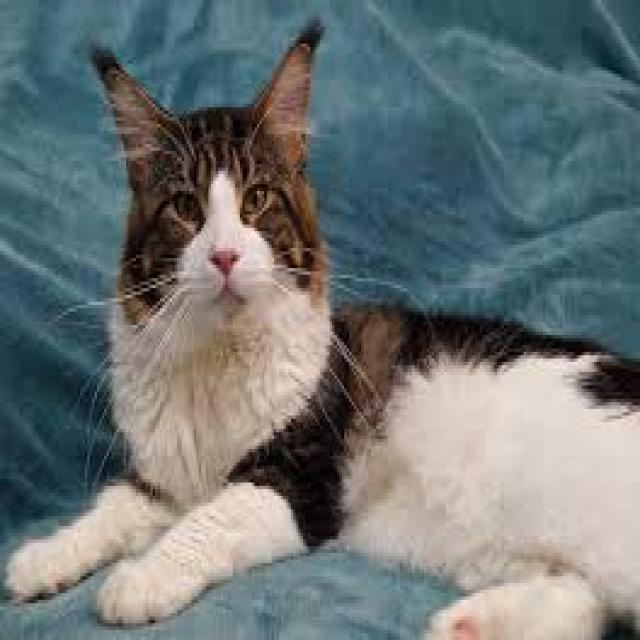cat: (7, 20, 638, 640)
